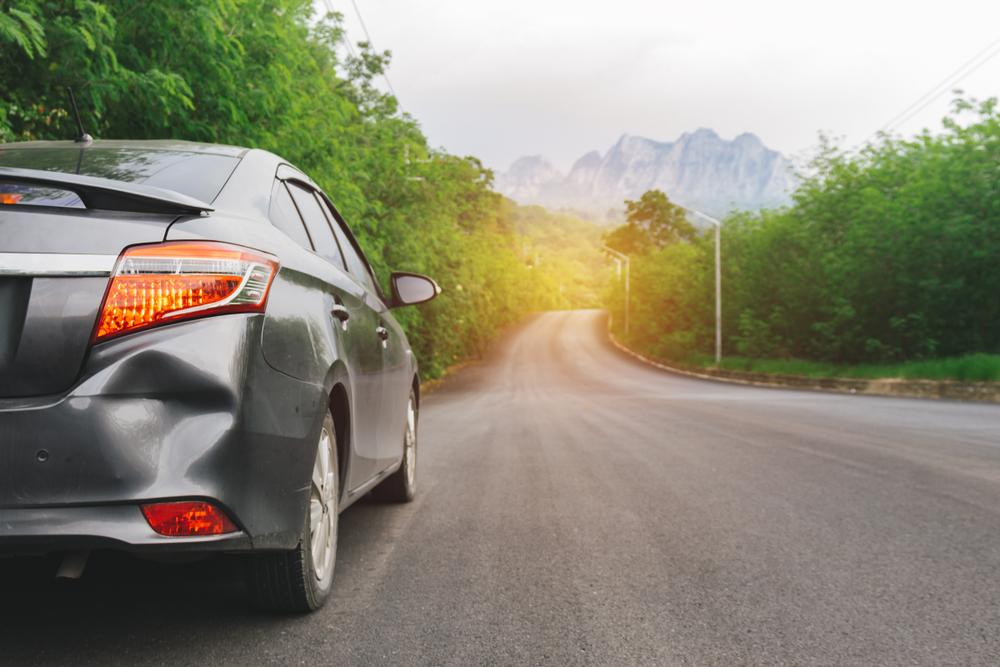dent: (98, 351, 236, 479)
